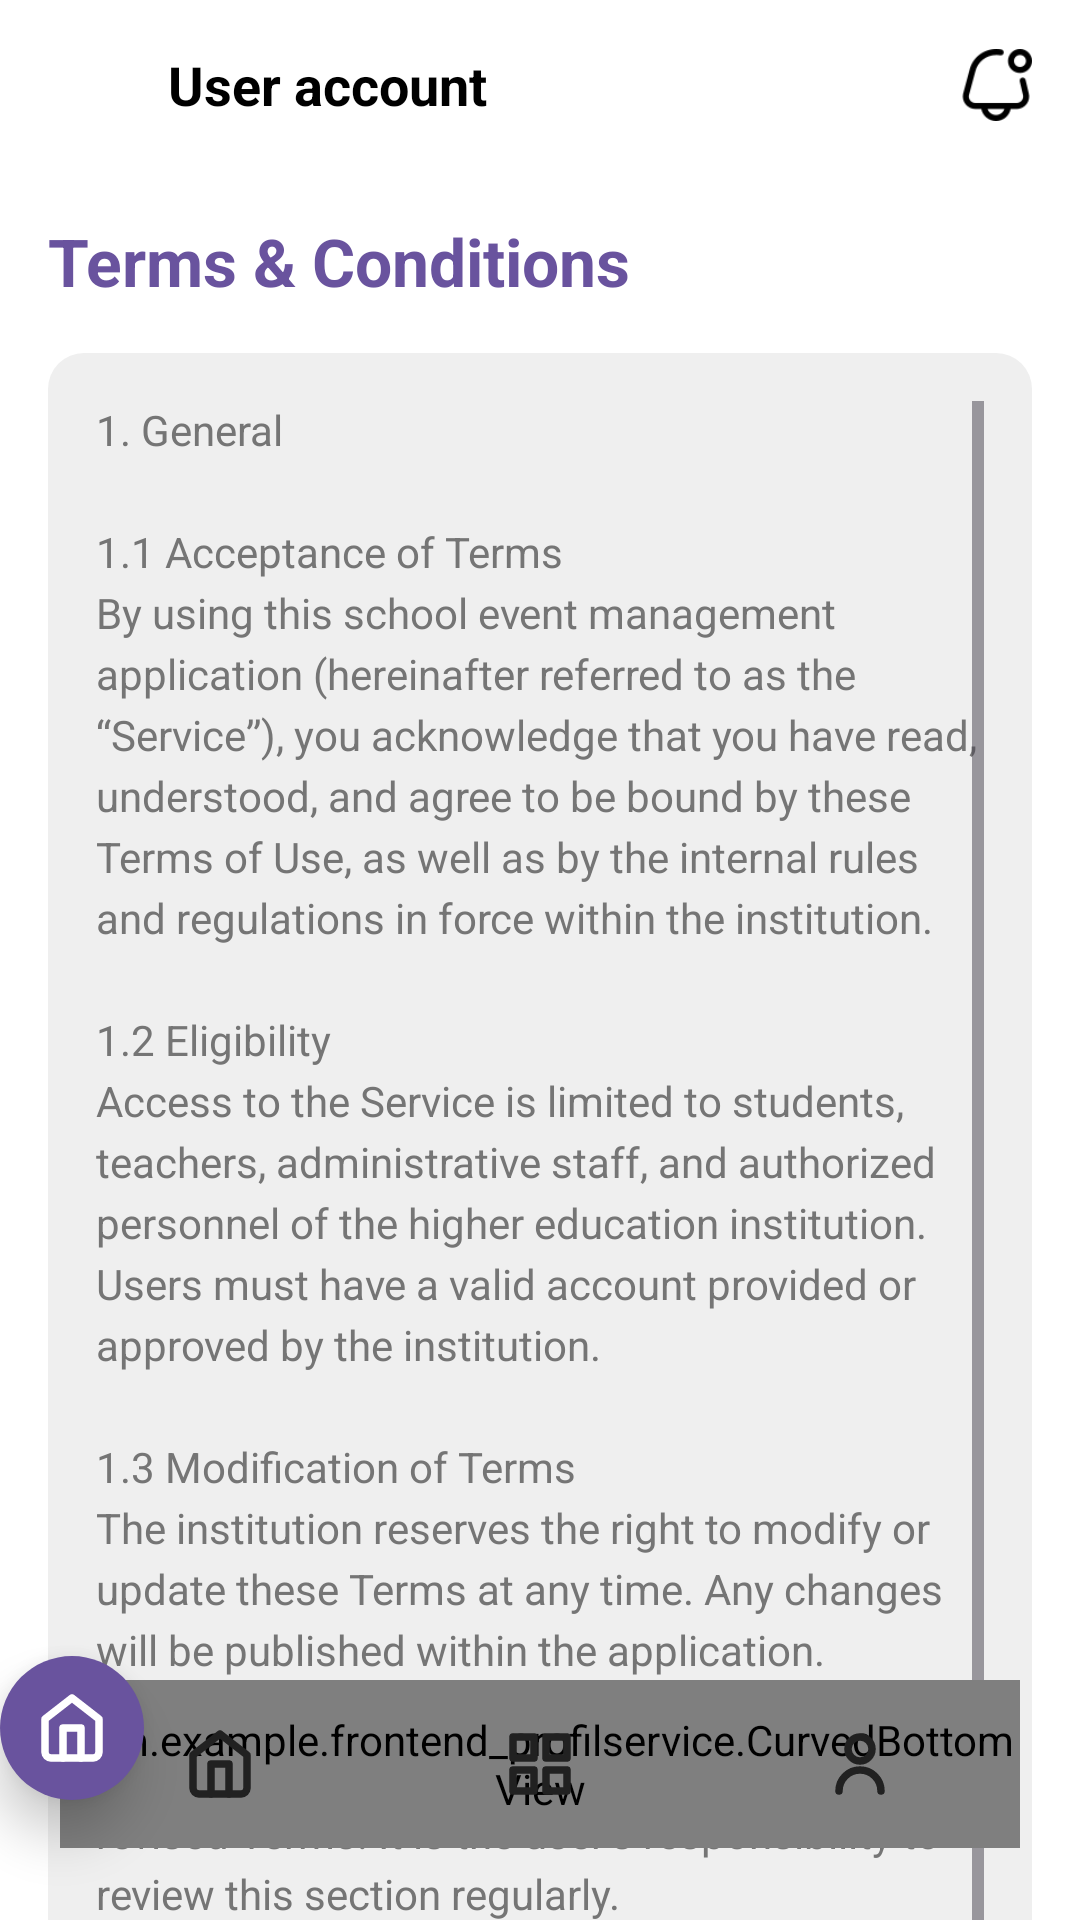

Named icons in this screenshot (1080w x 1920h) and their centers, point (x, y):
dashboard: point (540, 1764)
home: point (72, 1728), point (220, 1764)
notification: point (997, 85)
profile: point (864, 1761)
